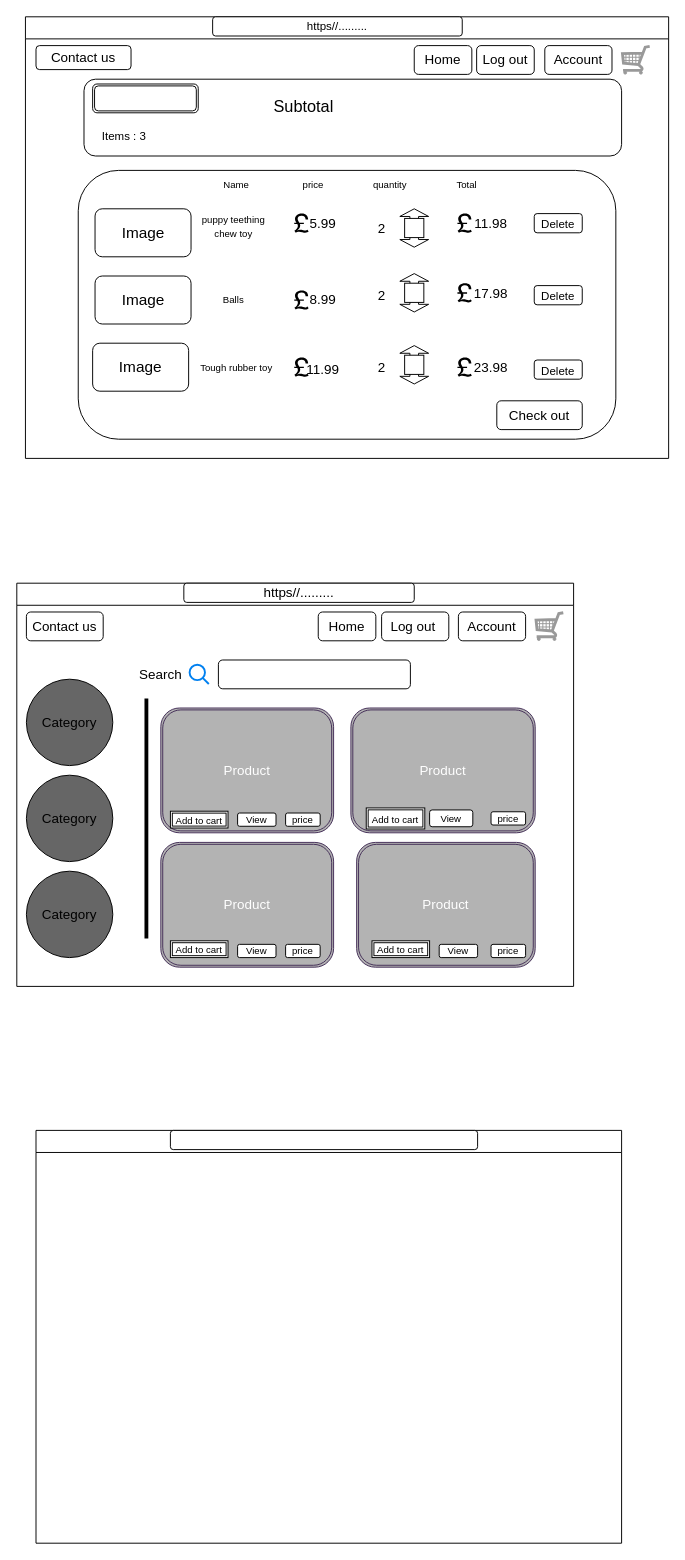
This 685x1560 diagram has some shape labels left out. The box of each missing label's shape, as (x1, y1, x2, y2) in pixels:
Continue shopping: (92, 83, 198, 113)
https//..........: (169, 1129, 478, 1150)
